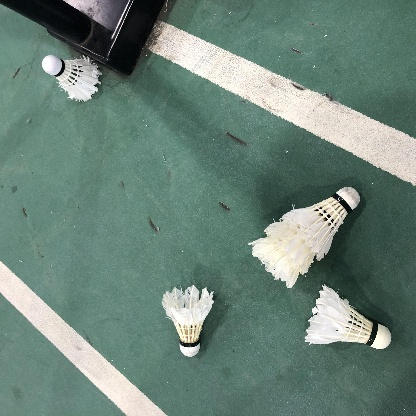ball_single: (248, 187, 360, 288), (304, 285, 391, 349), (161, 285, 214, 357), (42, 55, 102, 101)
